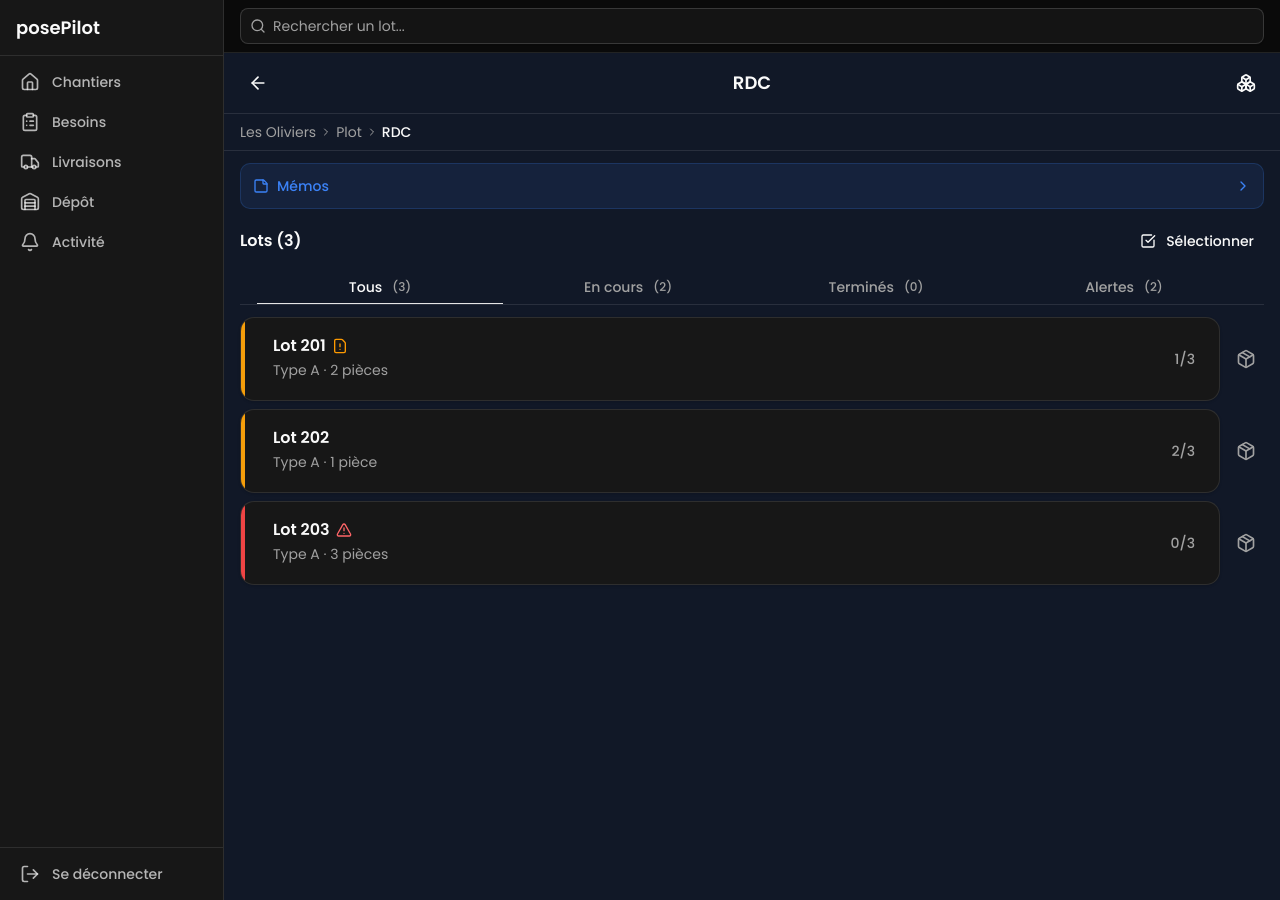
Scenario: EtageIndexPage — has_missing_docs in alerts filter (AC #4) › "Alertes" shows lots with has_missing_docs OR has_blocking_note
Expected: the element showing "Tous (3) En cours (2) Terminés (0) Alertes (2)" is shown, [240,269,1264,305]
Click the tab "Alertes (2)" at (1124, 286), box [1000,272,1248,300]
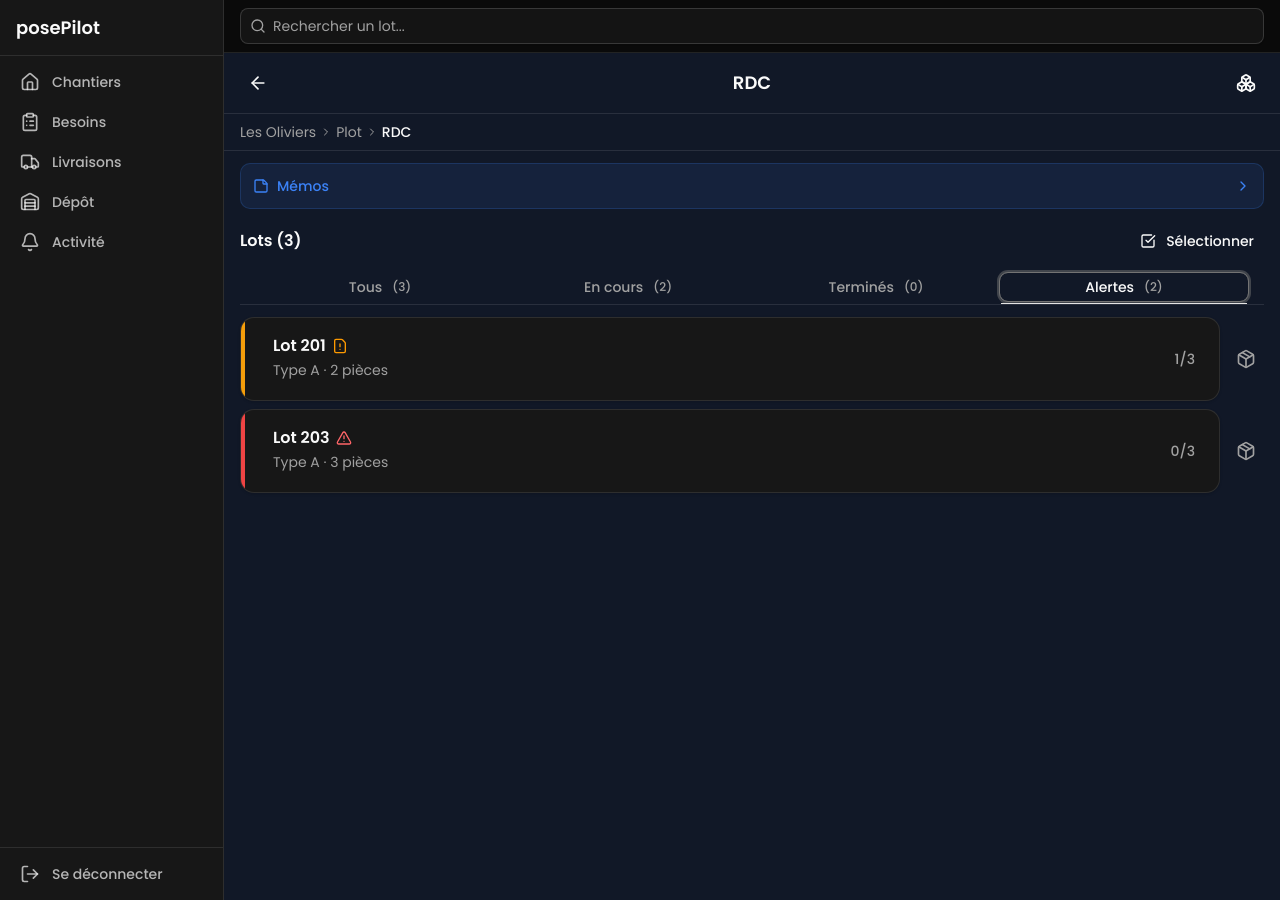
Expected: the text "Lot 201" is shown, [273,334,326,358]
Result: the text "Lot 202" is gone
